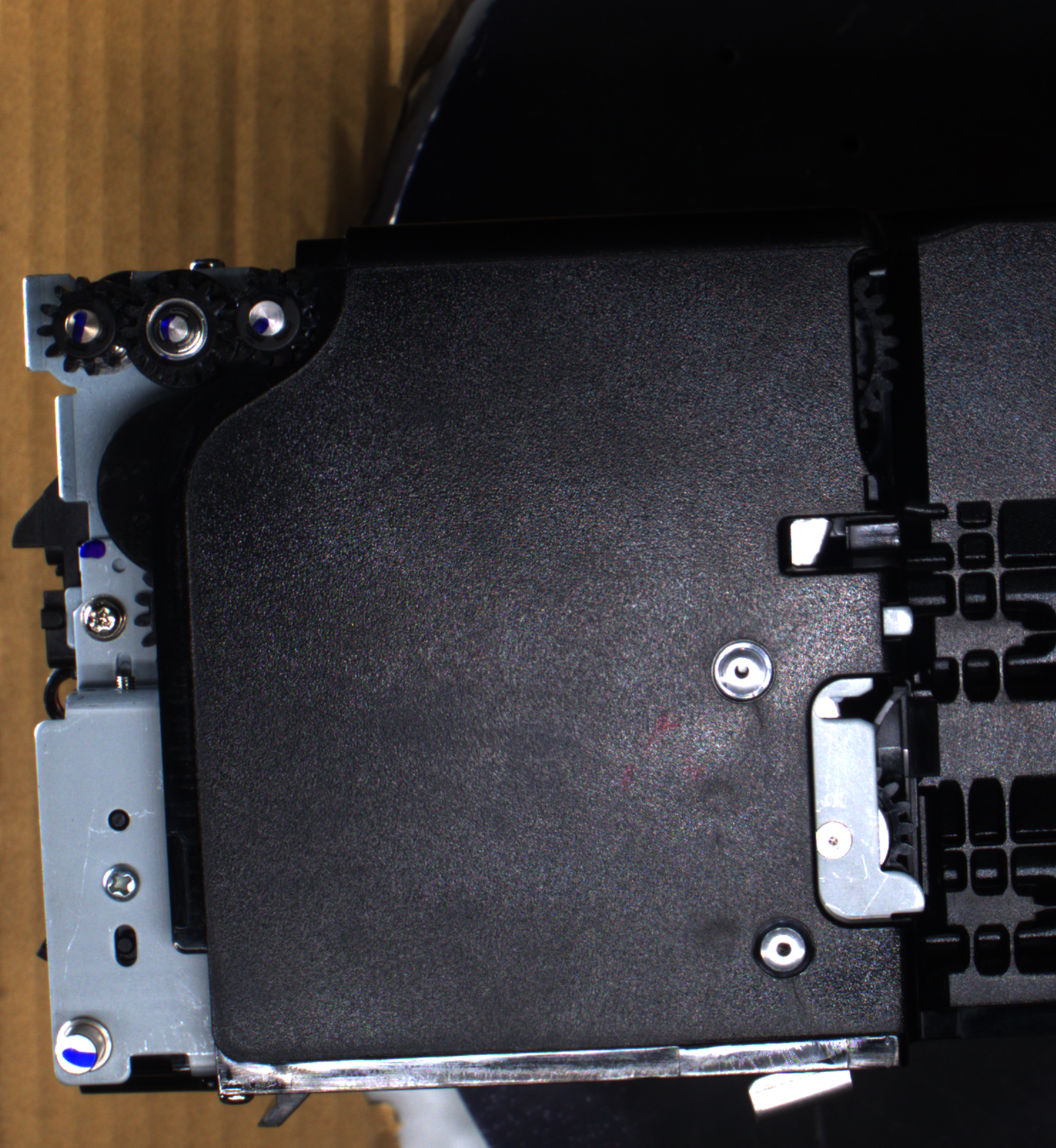centre_pin_presence: (743, 1049, 859, 1120)
centre_plate_presence: (804, 668, 936, 933)
centre_screw_presence: (707, 632, 780, 710), (747, 909, 818, 986)
gear1_presence: (36, 274, 135, 376)
gear2_presence: (120, 269, 235, 390)
gear3_presence: (216, 267, 317, 370)
side_screw_presence: (77, 592, 129, 642), (98, 862, 143, 902)
slanting_pin_presence: (49, 1011, 121, 1083)
